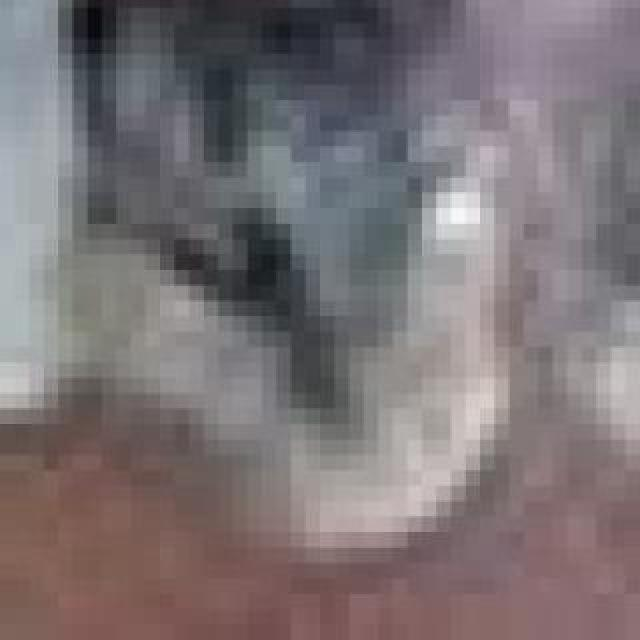cavities: (0, 0, 538, 548)
